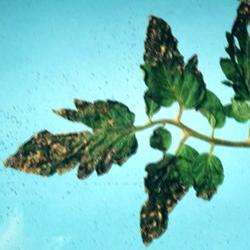Tomato Septoria leaf spot: (1, 87, 139, 190), (129, 140, 202, 248), (131, 16, 205, 119)
